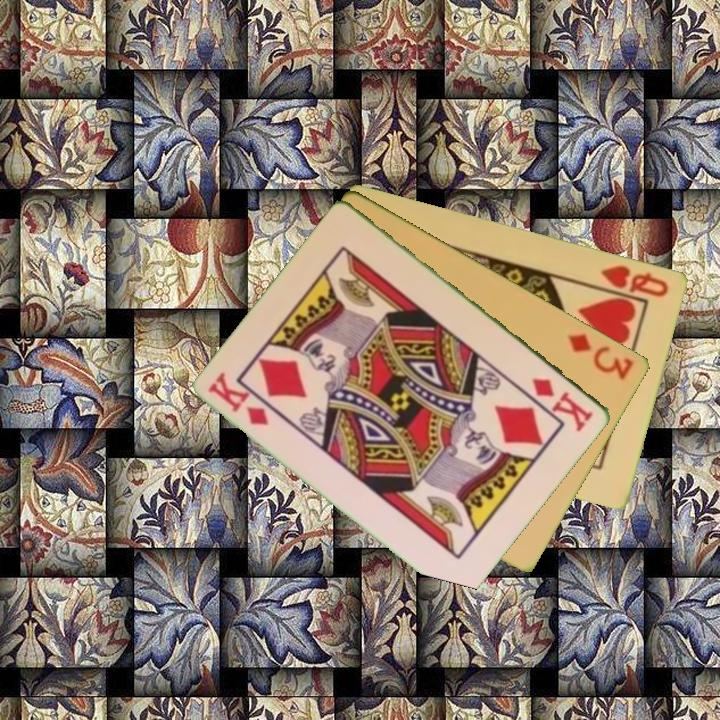3d: (564, 330, 637, 383)
Kd: (528, 374, 597, 433), (205, 369, 272, 429)
Qh: (598, 261, 672, 300)
